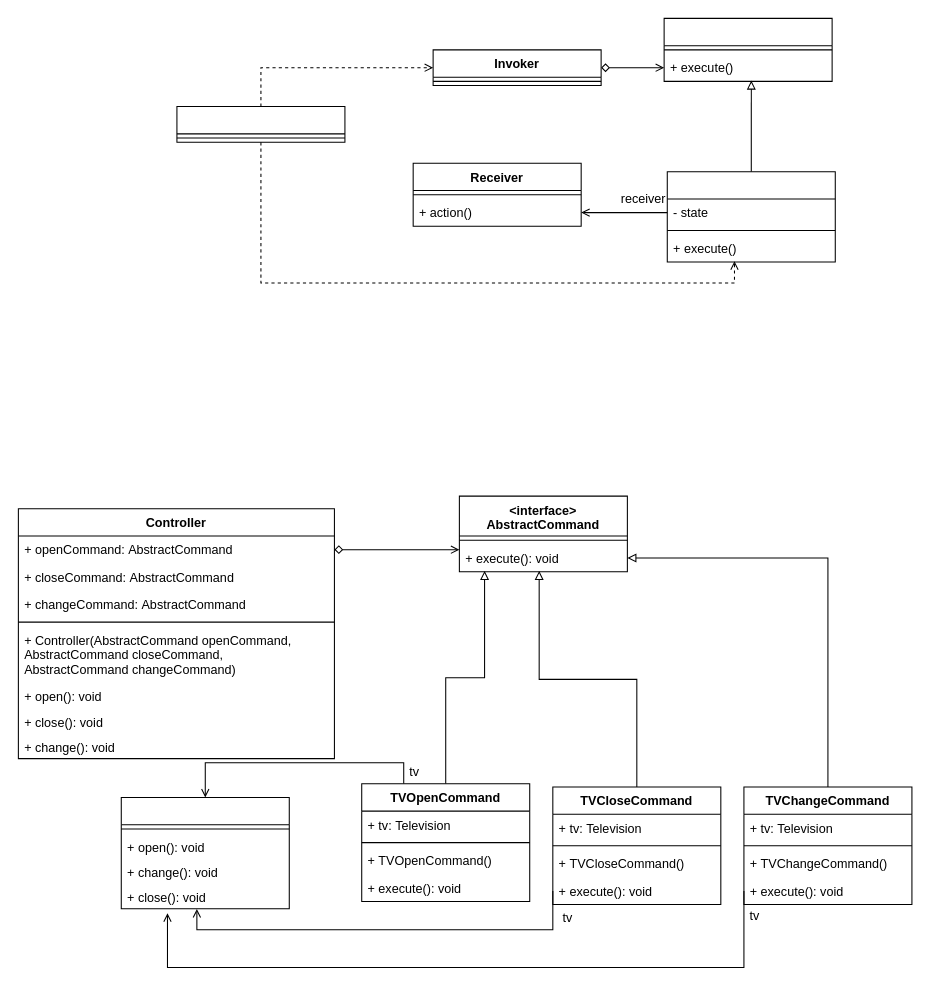
This 930x994 diagram has some shape labels left out. The box of each missing label's shape, as (x1, y1, x2, y2) in pixels:
Client: (176, 106, 345, 142)
Command: (663, 17, 832, 81)
ConcreteCommand: (666, 171, 835, 262)
Television: (120, 796, 289, 909)
